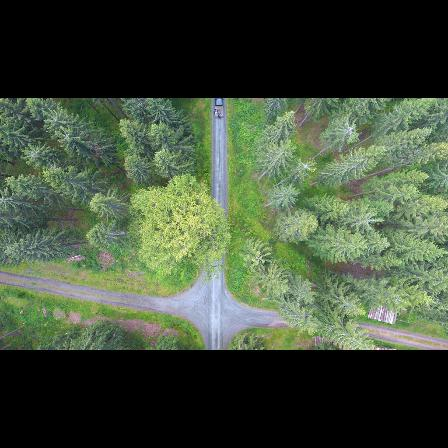Sick: (19, 139, 49, 162), (356, 206, 381, 232), (39, 110, 72, 129), (294, 154, 319, 178)
